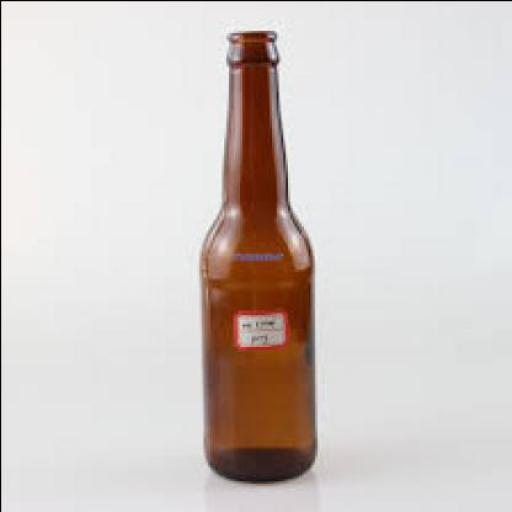glass: (198, 27, 312, 480)
